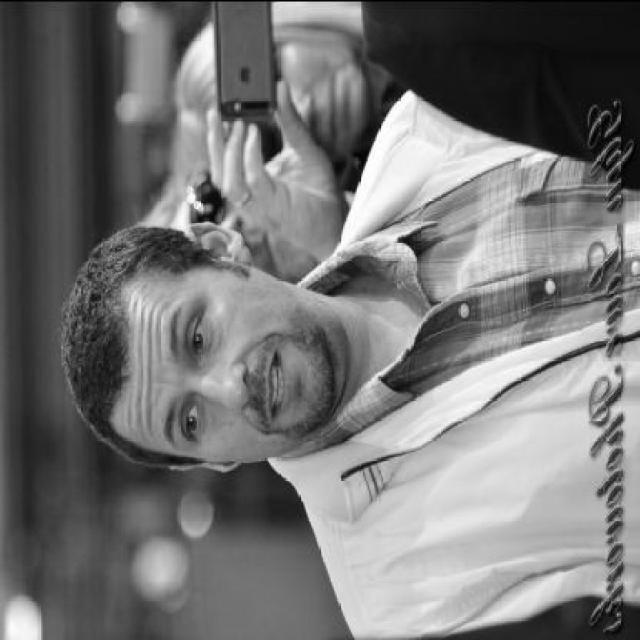fake: (196, 14, 284, 146)
